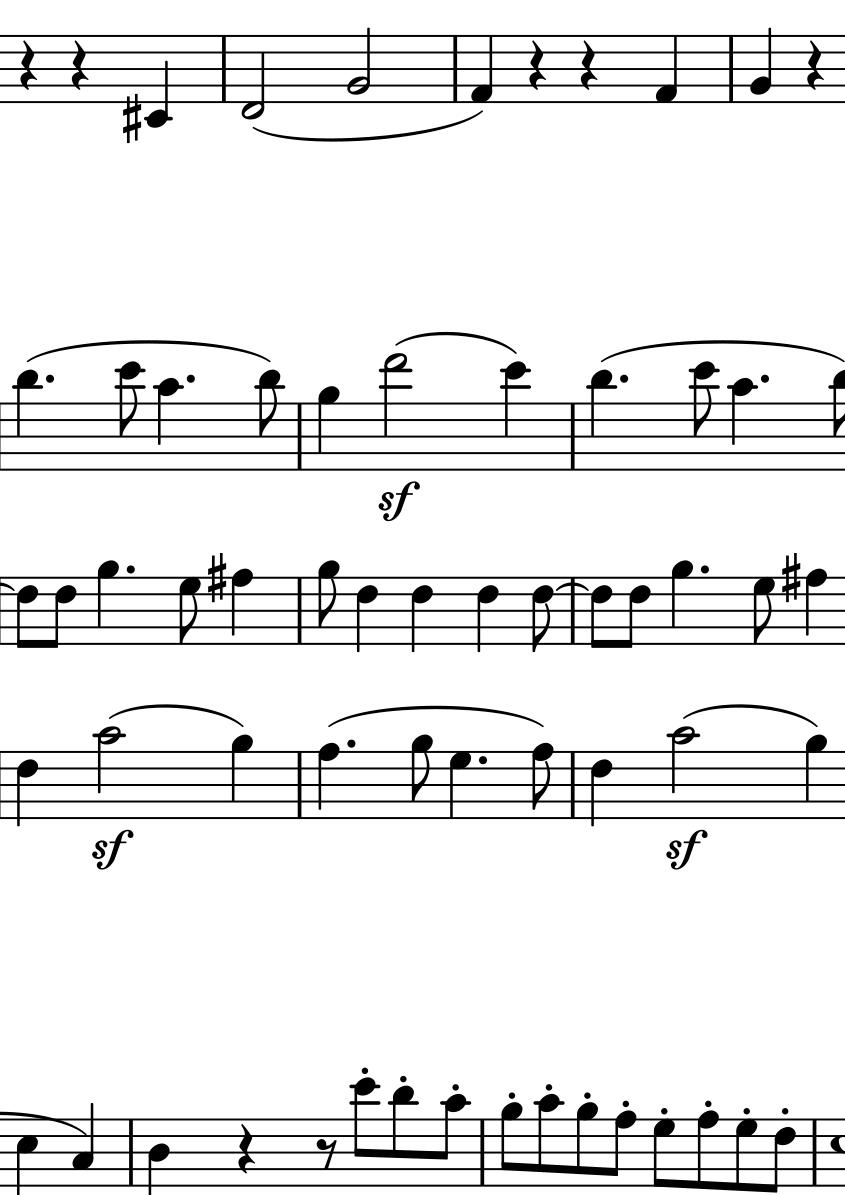2_-1: (239, 33, 266, 122)
2_10: (94, 725, 124, 822), (670, 725, 699, 822)
2_13: (381, 352, 410, 470)
2_2: (344, 26, 374, 106)
4_-2: (143, 30, 172, 130)
4_1: (652, 34, 680, 105), (469, 33, 496, 105)
4_10: (729, 376, 757, 474), (155, 377, 183, 473)
4_11: (587, 366, 615, 476), (13, 367, 41, 476)
4_12: (502, 359, 531, 475)
4_2: (748, 26, 774, 106)
4_3: (71, 1103, 96, 1189)
4_4: (146, 1116, 172, 1195)
4_5: (14, 1119, 39, 1195)
4_6: (588, 750, 614, 827), (475, 576, 500, 654), (14, 749, 39, 827), (409, 576, 434, 653), (355, 576, 379, 654)
4_7: (447, 750, 473, 821)
4_8: (315, 742, 340, 822), (230, 569, 254, 648)
4_9: (803, 731, 829, 822), (316, 384, 342, 473), (229, 732, 254, 823), (669, 557, 694, 647), (95, 558, 120, 646)
8_10: (435, 1093, 471, 1188), (536, 1094, 563, 1188)
8_11: (390, 1083, 417, 1191), (256, 369, 284, 473)
8_12: (115, 359, 146, 474), (689, 360, 720, 475), (350, 1075, 381, 1189)
8_6: (621, 575, 652, 650), (47, 575, 78, 649), (767, 1118, 797, 1194), (530, 574, 555, 654), (14, 575, 39, 650), (588, 575, 613, 650)
8_7: (733, 1120, 759, 1193), (176, 576, 202, 645), (750, 576, 776, 645), (651, 1118, 676, 1189)
8_8: (606, 1110, 637, 1188), (695, 1110, 720, 1192), (804, 568, 829, 647), (530, 741, 554, 821)
8_9: (409, 733, 434, 822), (499, 1102, 524, 1189), (574, 1101, 599, 1188), (316, 560, 340, 649)
Rests4: (526, 39, 548, 94), (577, 39, 599, 94), (68, 38, 89, 92), (17, 39, 38, 92), (803, 39, 824, 92), (236, 1123, 256, 1177)
Rests8: (315, 1136, 338, 1170)
Sharp: (121, 92, 143, 145), (206, 551, 227, 603), (781, 551, 800, 603)
Single_barline: (445, 35, 464, 103), (721, 36, 740, 103), (473, 1119, 491, 1187), (564, 403, 582, 470), (122, 1119, 140, 1186), (564, 752, 582, 818), (214, 37, 232, 102), (806, 1119, 823, 1186), (292, 404, 309, 469), (291, 753, 308, 818), (292, 578, 308, 644)
Slur: (254, 109, 482, 144), (20, 339, 275, 363), (601, 339, 845, 364), (328, 703, 545, 731), (393, 329, 521, 358), (109, 702, 245, 729), (682, 701, 820, 726), (556, 580, 589, 592)
dot: (757, 372, 772, 388), (617, 371, 631, 388), (183, 371, 197, 387), (42, 372, 56, 388), (123, 562, 137, 577), (697, 562, 711, 576), (476, 753, 489, 767), (344, 738, 357, 751)
sf: (664, 829, 707, 872), (375, 481, 419, 521), (90, 830, 132, 869)
